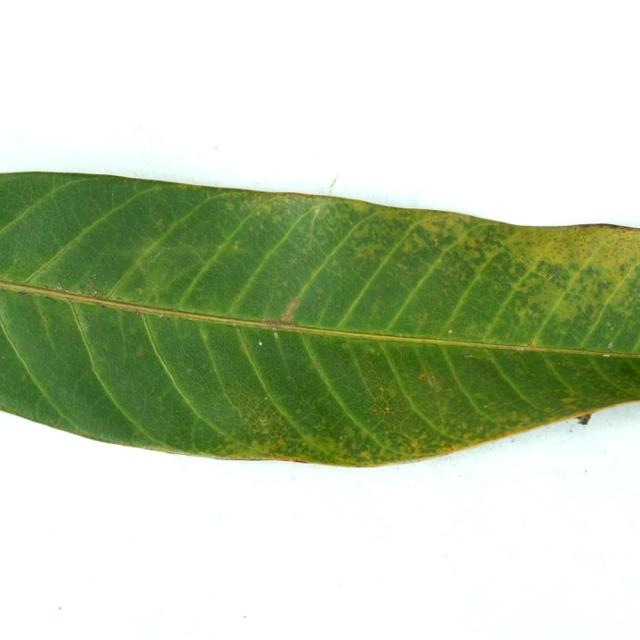Mango: (0, 173, 639, 465)
Powdery_Mildew: (547, 228, 630, 270), (442, 226, 506, 266), (245, 189, 304, 208), (70, 300, 93, 334), (32, 299, 55, 328), (279, 296, 303, 323), (309, 198, 323, 242), (259, 317, 300, 332), (418, 370, 443, 388), (266, 434, 290, 451), (155, 244, 198, 253), (392, 254, 408, 272), (252, 336, 269, 351), (372, 402, 391, 415), (131, 346, 150, 358), (415, 310, 428, 326), (408, 438, 423, 451), (576, 414, 591, 425), (85, 279, 96, 293), (545, 271, 559, 282), (291, 457, 312, 464), (381, 410, 393, 422), (505, 275, 517, 286), (310, 423, 323, 433), (258, 415, 268, 425), (287, 256, 297, 265), (225, 203, 235, 211), (257, 223, 266, 231), (225, 322, 237, 328), (149, 384, 156, 394), (22, 374, 29, 383), (234, 322, 243, 329), (56, 282, 63, 290), (17, 291, 27, 296), (233, 244, 240, 251), (577, 346, 585, 352), (98, 303, 107, 308), (608, 342, 614, 349), (465, 354, 475, 358), (94, 301, 102, 306), (157, 313, 165, 318), (254, 181, 262, 186), (367, 349, 374, 354), (504, 332, 509, 339), (341, 341, 348, 346), (530, 340, 535, 347), (126, 297, 133, 302), (65, 298, 73, 302), (162, 246, 170, 250), (603, 352, 611, 356), (433, 239, 438, 245), (273, 332, 278, 338), (517, 347, 524, 351), (135, 311, 140, 316), (516, 350, 522, 354), (493, 341, 499, 345), (339, 435, 343, 440), (483, 337, 488, 341), (42, 285, 47, 289), (448, 330, 453, 334), (399, 333, 404, 337), (7, 279, 13, 282), (523, 343, 529, 346), (380, 387, 384, 391), (511, 438, 515, 442), (2, 356, 6, 360), (395, 466, 399, 470), (116, 297, 121, 300), (264, 397, 268, 400), (569, 429, 572, 433), (93, 274, 96, 278), (611, 327, 614, 330), (484, 405, 487, 408), (639, 293, 640, 299)
